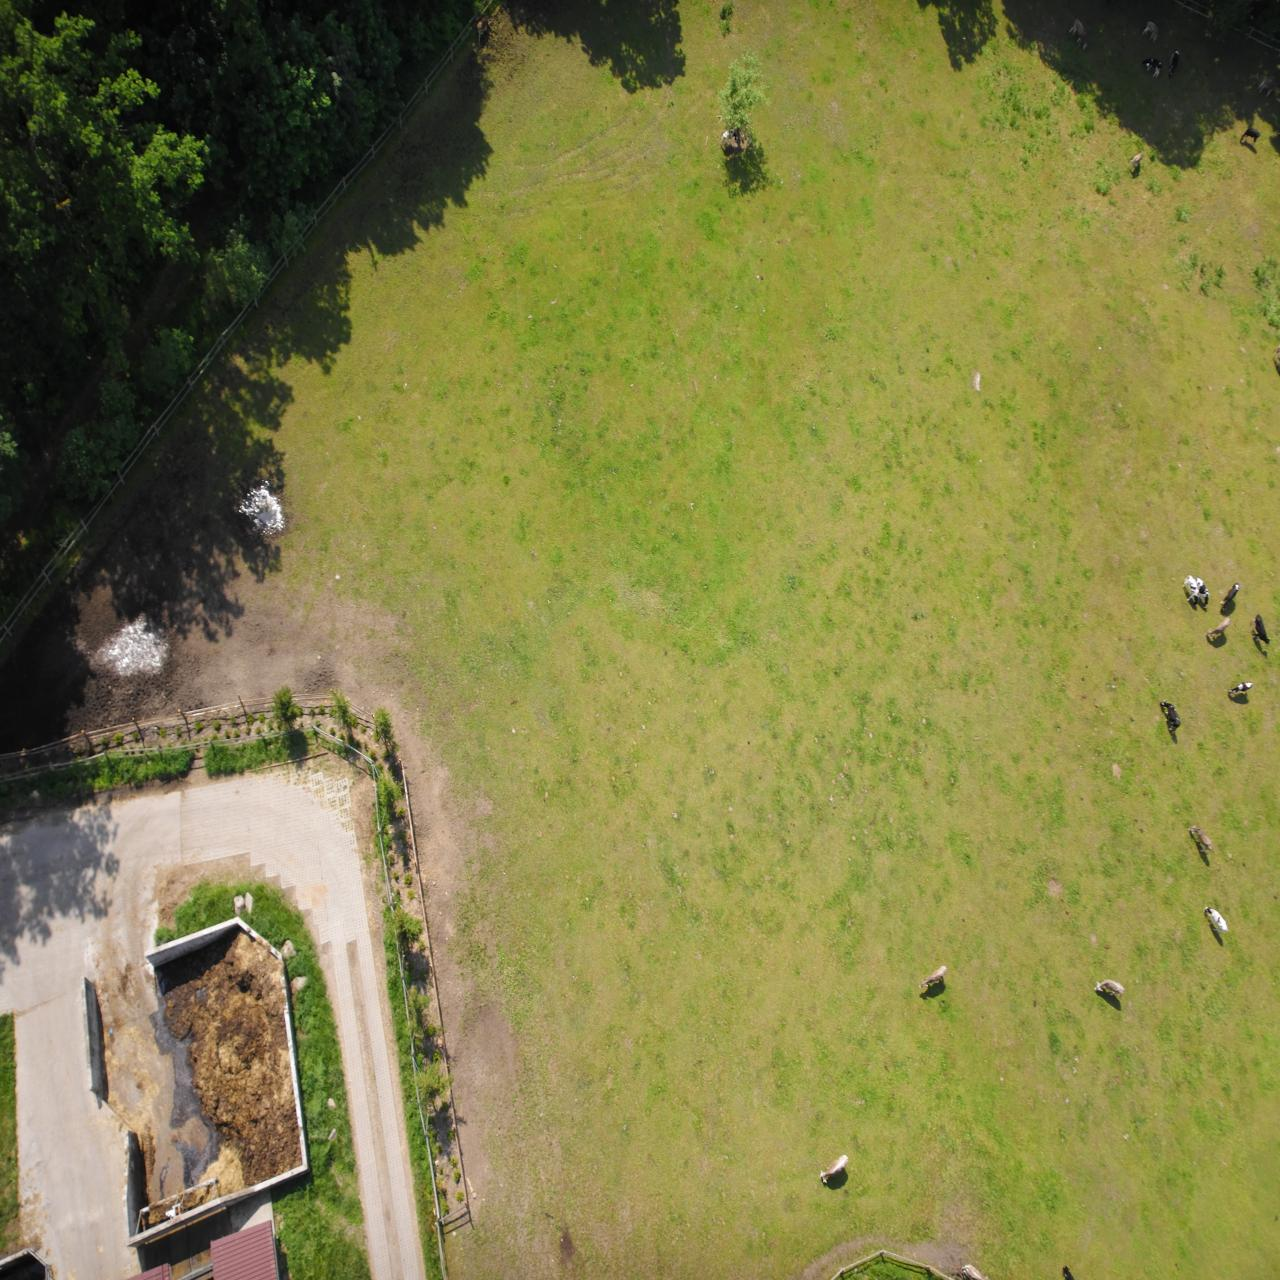cow: (431, 97, 461, 124), (100, 545, 120, 580), (66, 429, 91, 455), (52, 347, 76, 374), (334, 293, 362, 313), (9, 635, 28, 665), (80, 675, 97, 704), (48, 642, 75, 661), (41, 673, 60, 696), (156, 286, 185, 300), (70, 670, 82, 702), (27, 585, 52, 598)
